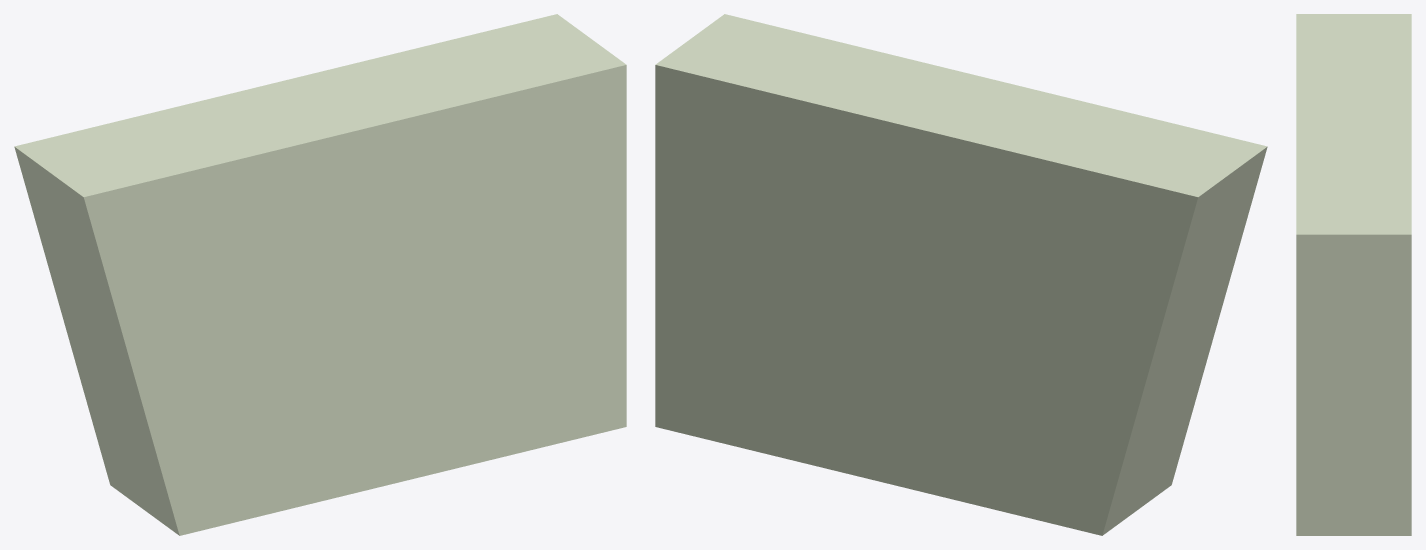
The model's file is Wall left.fbx.
The picture shows the model from 3 angles, left to right: view 1: azimuth 30°, elevation 25°; view 2: azimuth 150°, elevation 25°; view 3: azimuth 270°, elevation 25°; orthographic projection. The views are drawn at different scales.
Visible parts, largest first — view 1: Wall left; view 2: Wall left; view 3: Wall left.
Part boxes in pixels (<box>): Wall left: <box>14,14,626,535</box>; Wall left: <box>655,14,1267,535</box>; Wall left: <box>1296,14,1411,535</box>.
Size of the model in its own units: 5.7 by 3.63 by 1.26.
